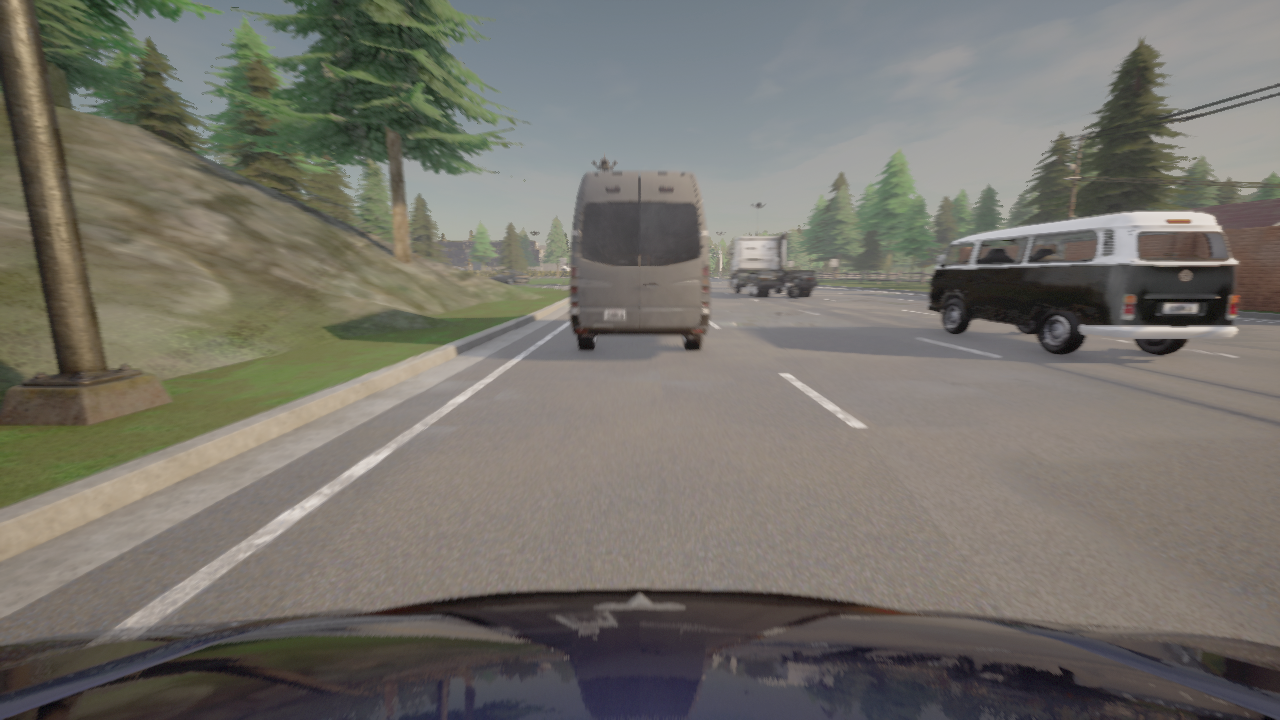cyclist: (0, 588, 1279, 719), (927, 211, 1238, 355), (569, 170, 710, 350), (728, 233, 817, 297), (490, 271, 529, 285)
